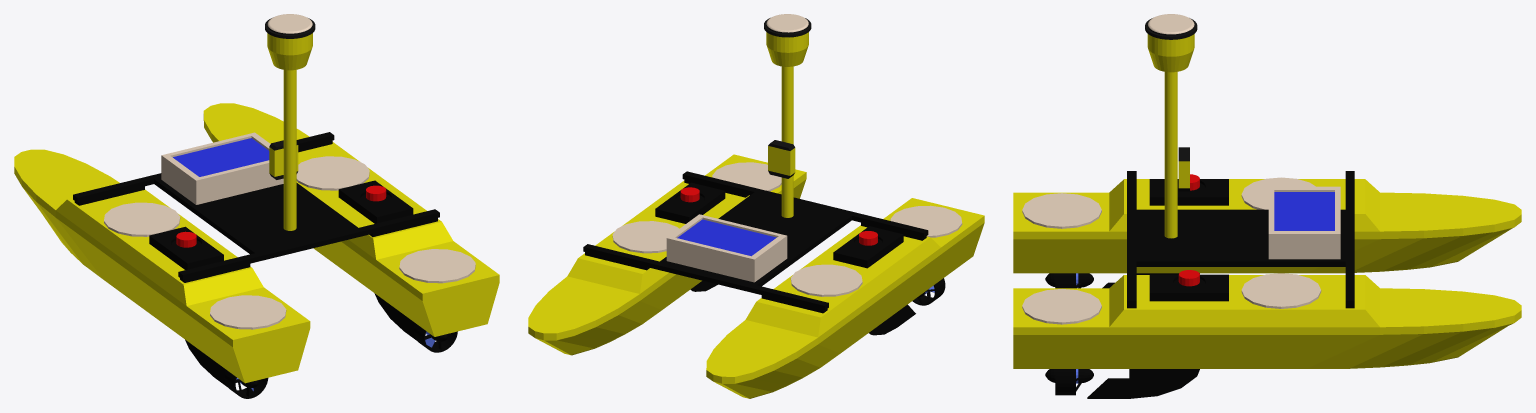
Rendered from HyDrone.glb.
3 views of the same model, side by side, from view 1: azimuth 30°, elevation 25°; view 2: azimuth 150°, elevation 25°; view 3: azimuth 270°, elevation 25° (orthographic). The views are drawn at different scales.
Visible parts, largest first — view 1: hull, hydrone_body, contol_module, gnss_antenna, white_cover_2, white_covers, black_covers, keel, yellow_module, left_nozzle, right_nozzle; view 2: hull, hydrone_body, contol_module, gnss_antenna, black_covers, white_covers, white_cover_2, yellow_module, keel; view 3: hull, hydrone_body, contol_module, gnss_antenna, white_cover_2, black_covers, white_covers, keel, right_nozzle, yellow_module.
Part boxes in pixels (x1=…): hull: x1=14, y1=103, x2=499, y2=383; hydrone_body: x1=73, y1=132, x2=439, y2=282; contol_module: x1=161, y1=132, x2=283, y2=204; gnss_antenna: x1=265, y1=14, x2=315, y2=230; white_cover_2: x1=210, y1=249, x2=475, y2=329; white_covers: x1=104, y1=156, x2=369, y2=236; black_covers: x1=149, y1=180, x2=413, y2=269; keel: x1=185, y1=293, x2=416, y2=386; yellow_module: x1=269, y1=140, x2=298, y2=179; left_nozzle: x1=224, y1=369, x2=268, y2=398; right_nozzle: x1=414, y1=323, x2=457, y2=352; hull: x1=528, y1=154, x2=984, y2=398; hydrone_body: x1=583, y1=171, x2=928, y2=313; contol_module: x1=666, y1=214, x2=787, y2=282; gnss_antenna: x1=764, y1=14, x2=811, y2=217; black_covers: x1=655, y1=182, x2=903, y2=268; white_covers: x1=612, y1=221, x2=862, y2=296; white_cover_2: x1=712, y1=162, x2=962, y2=237; yellow_module: x1=768, y1=140, x2=795, y2=178; keel: x1=690, y1=280, x2=915, y2=335; hull: x1=1013, y1=179, x2=1521, y2=368; hydrone_body: x1=1127, y1=171, x2=1354, y2=308; contol_module: x1=1268, y1=186, x2=1340, y2=259; gnss_antenna: x1=1145, y1=14, x2=1197, y2=238; white_cover_2: x1=1022, y1=193, x2=1101, y2=324; black_covers: x1=1149, y1=174, x2=1228, y2=301; white_covers: x1=1241, y1=177, x2=1321, y2=308; keel: x1=1087, y1=273, x2=1199, y2=398; right_nozzle: x1=1055, y1=369, x2=1082, y2=395; yellow_module: x1=1178, y1=147, x2=1189, y2=191.
Size of the model in its own units: 0.7251 by 0.8214 by 1.16.
